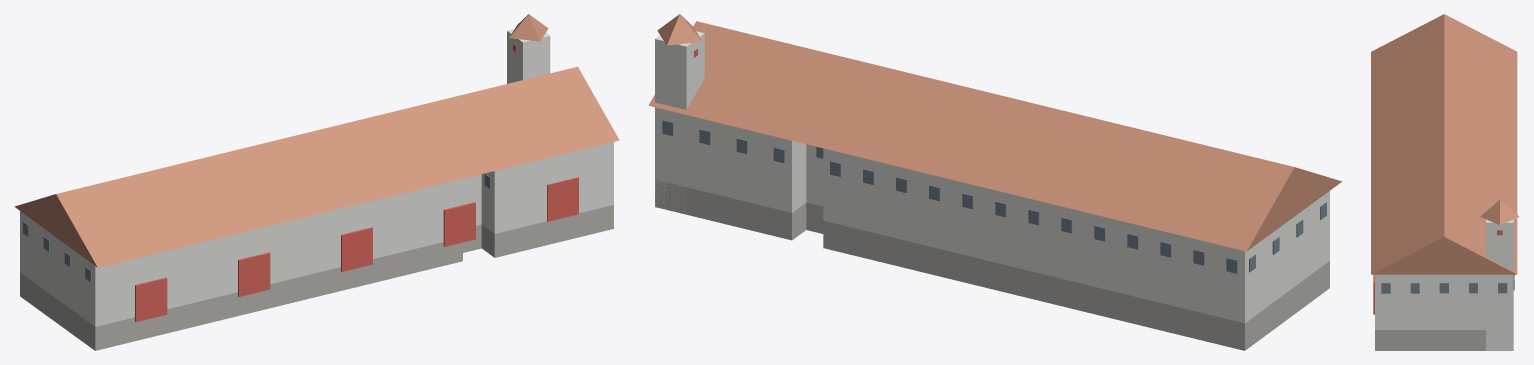
File: fire_station-freiwillige-feuerwehr-kandern.glb
3 views of the same model, side by side, from view 1: azimuth 30°, elevation 25°; view 2: azimuth 150°, elevation 25°; view 3: azimuth 270°, elevation 25° (orthographic). The views are drawn at different scales.
Parts seen in each view (by area): view 1: building; view 2: building; view 3: building.
Boxes of the visible parts, x1,y1,x2,y2 form: building: (14, 14, 619, 350); building: (648, 14, 1342, 350); building: (1371, 14, 1519, 350).
Size of the model in its own units: 57.15 by 17.28 by 16.05.
